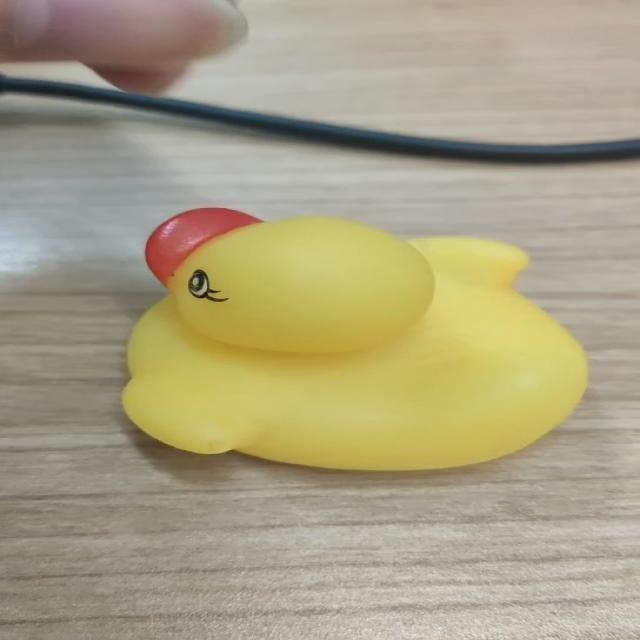rubber-duck: (122, 207, 586, 468)
